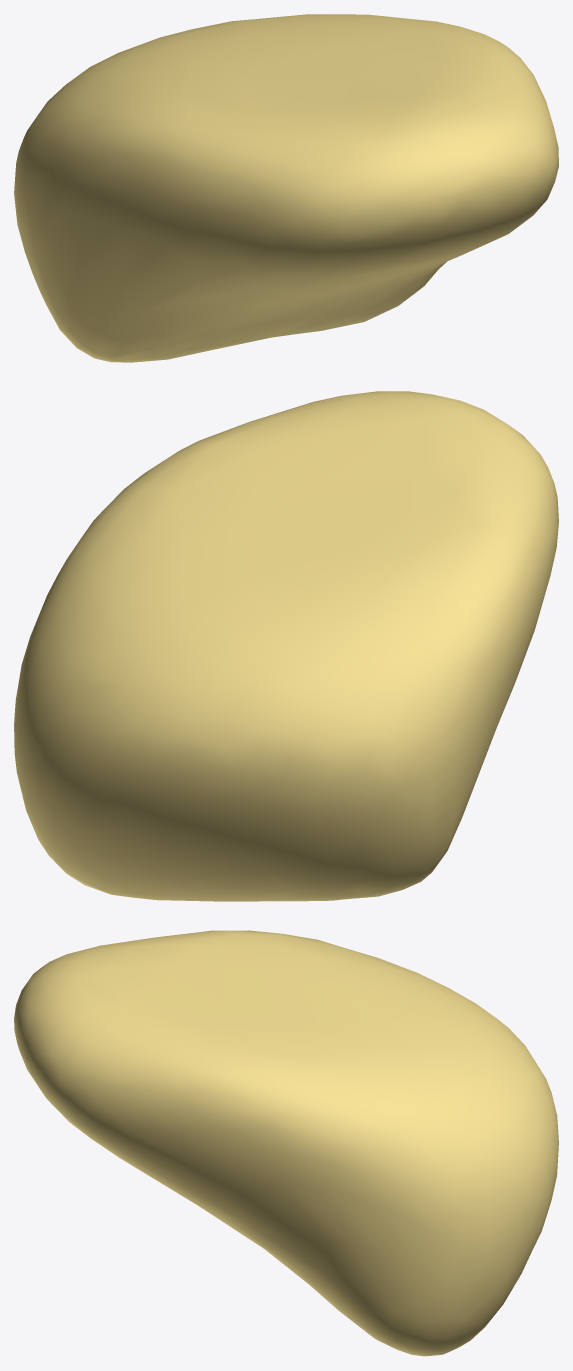
3 views of the same model, one above another, from view 1: azimuth 30°, elevation 25°; view 2: azimuth 150°, elevation 25°; view 3: azimuth 270°, elevation 25° (orthographic). The views are drawn at different scales.
Parts seen in each view (by area): view 1: ZA_ce242a97a5d2d5ff; view 2: ZA_ce242a97a5d2d5ff; view 3: ZA_ce242a97a5d2d5ff.
Part boxes in pixels (left/top/right/bottom): ZA_ce242a97a5d2d5ff: left=14, top=14, right=558, bottom=362; ZA_ce242a97a5d2d5ff: left=14, top=391, right=558, bottom=901; ZA_ce242a97a5d2d5ff: left=14, top=930, right=558, bottom=1356.
Size of the model in its own units: 0.0151 by 0.0126 by 0.019.
